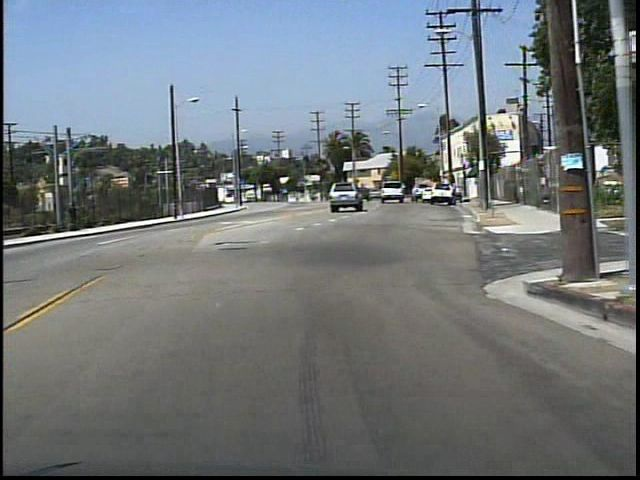person: (69, 199, 84, 233)
